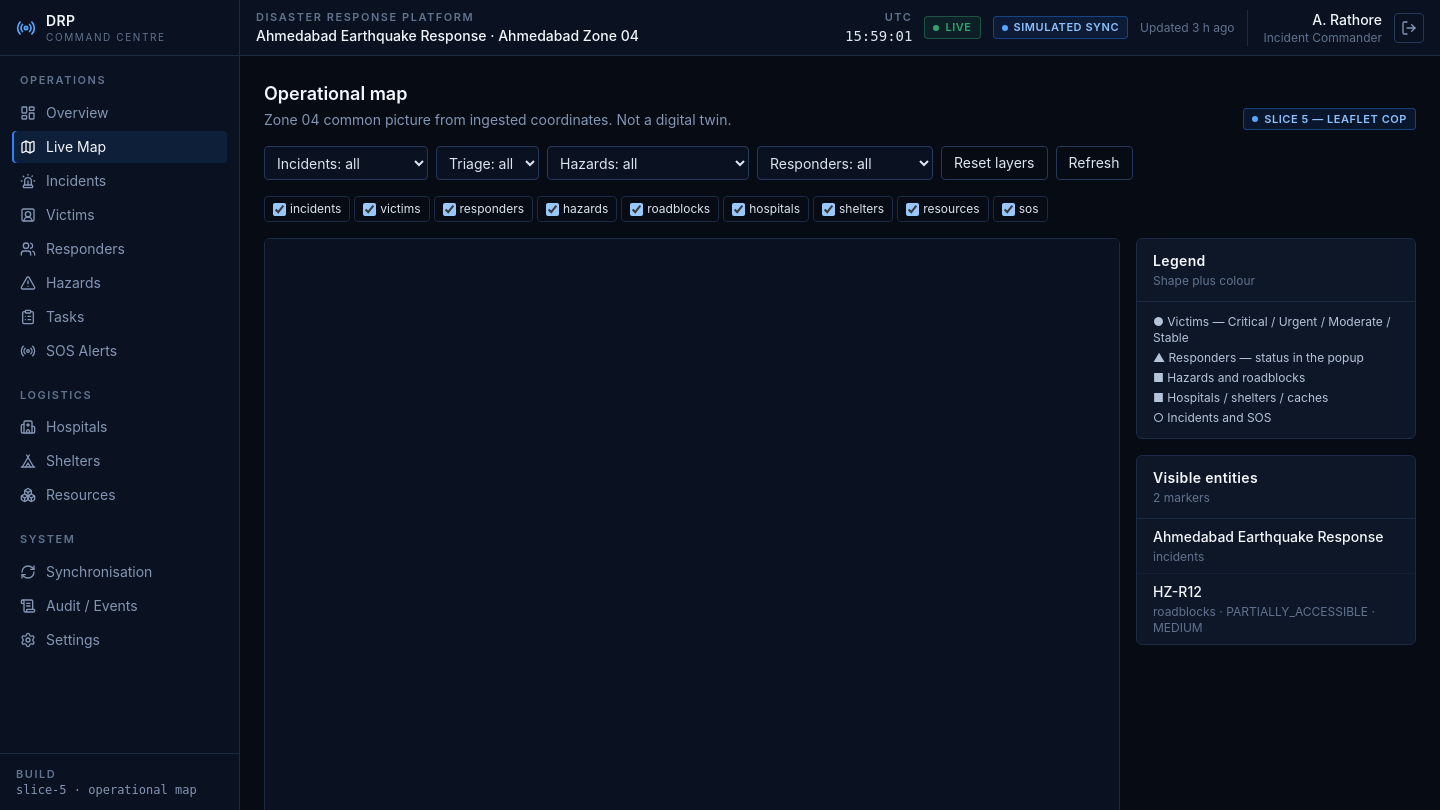
Test: command centre slice 5 › renders the operational map and filters markers
Expected: the heading "Operational map" is shown, [264,83,407,104]
Expected: the text "HZ-R12" is shown, [1153,583,1202,600]
Select "FIRE" in the dropdown named "filter hazards" at (648, 163), box [547,146,749,180]
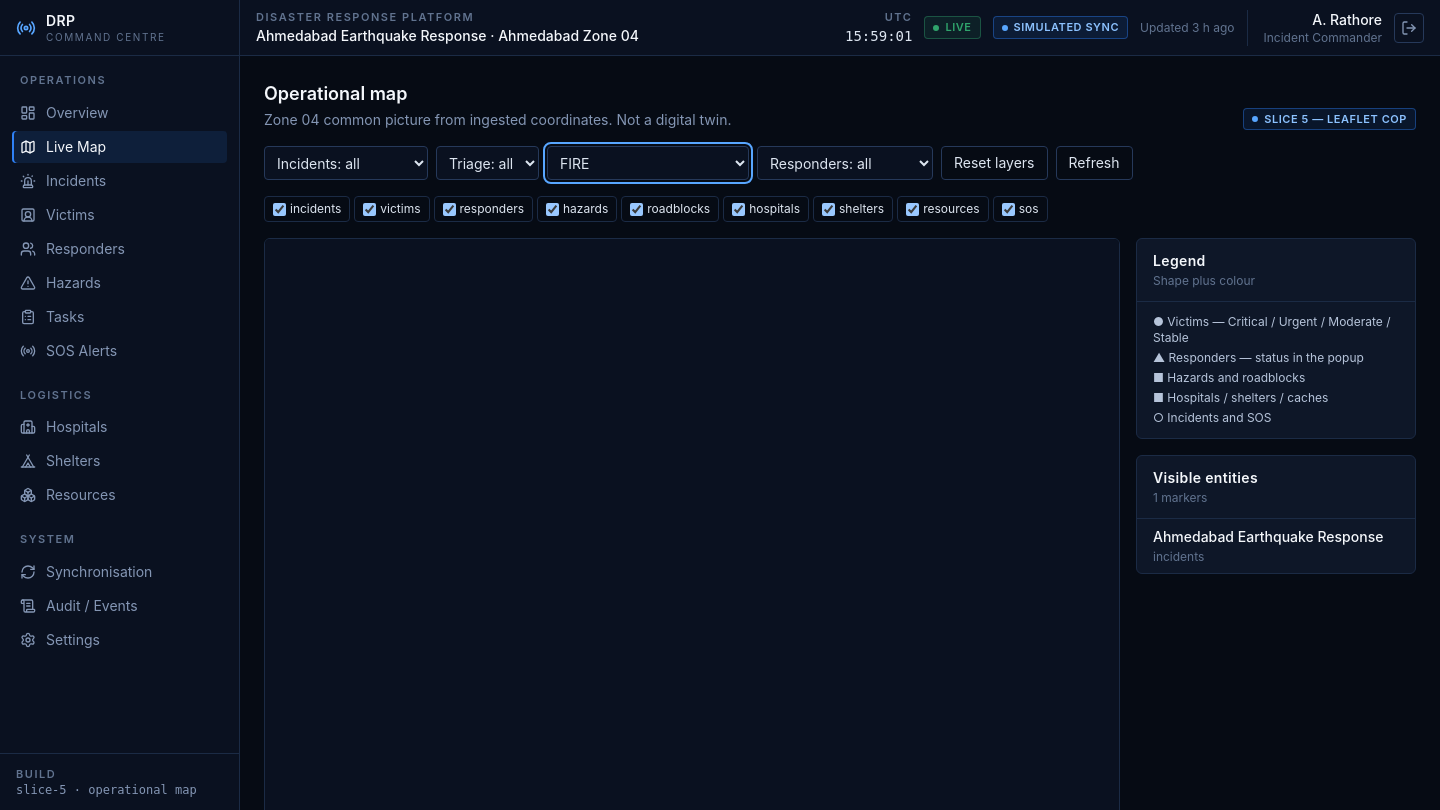
Now the button "HZ-R12" is gone
